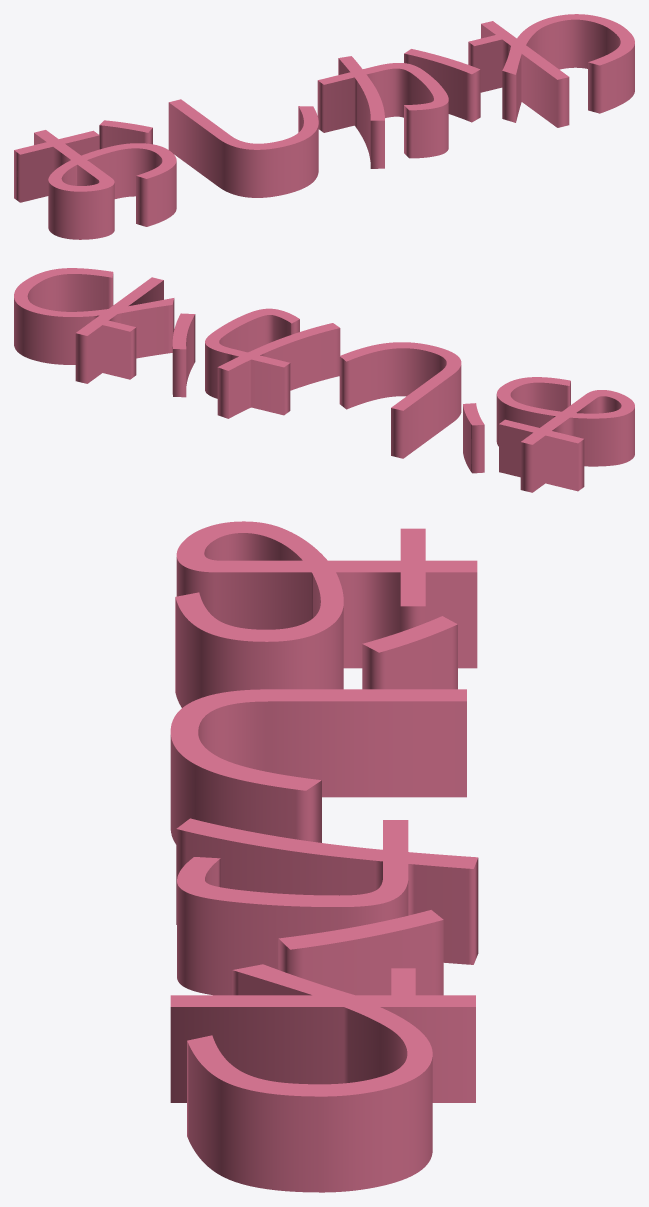
The picture shows the model from 3 angles, top to bottom: view 1: azimuth 30°, elevation 25°; view 2: azimuth 150°, elevation 25°; view 3: azimuth 270°, elevation 25°; orthographic projection. The views are drawn at different scales.
Parts seen in each view (by area): view 1: テキスト; view 2: テキスト; view 3: テキスト.
Part boxes in pixels (x1,y1,x2,y2): テキスト: [14, 14, 634, 239]; テキスト: [14, 268, 634, 492]; テキスト: [170, 521, 478, 1192].
Size of the model in its own units: 3.86 by 0.3 by 0.8721.
